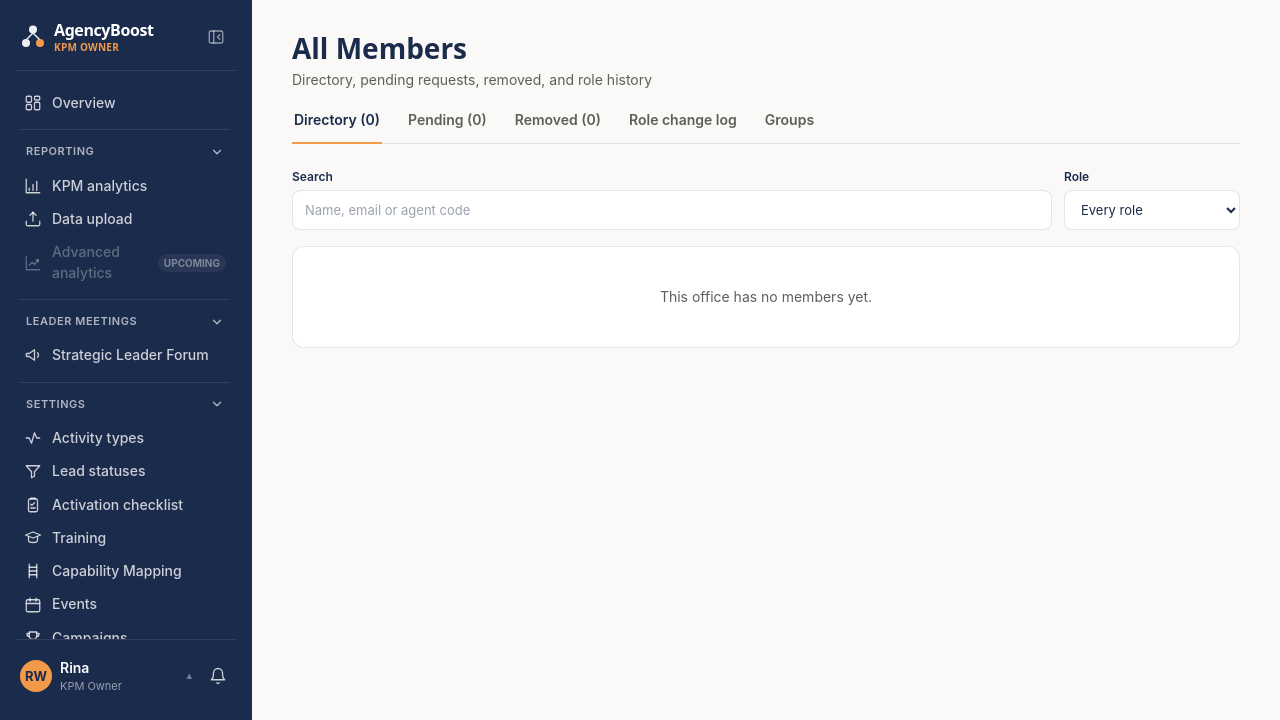
members directory (P3-T1 AC-3) › the role change log tab (P3-T6 AC-4) › reads the log, not the roster, and drops the roster filters while it is open
What coordinates should you click on to do the following:
click the button "Role change log"
I would click on:
 (683, 127)
Its box is [627,110,739,144].
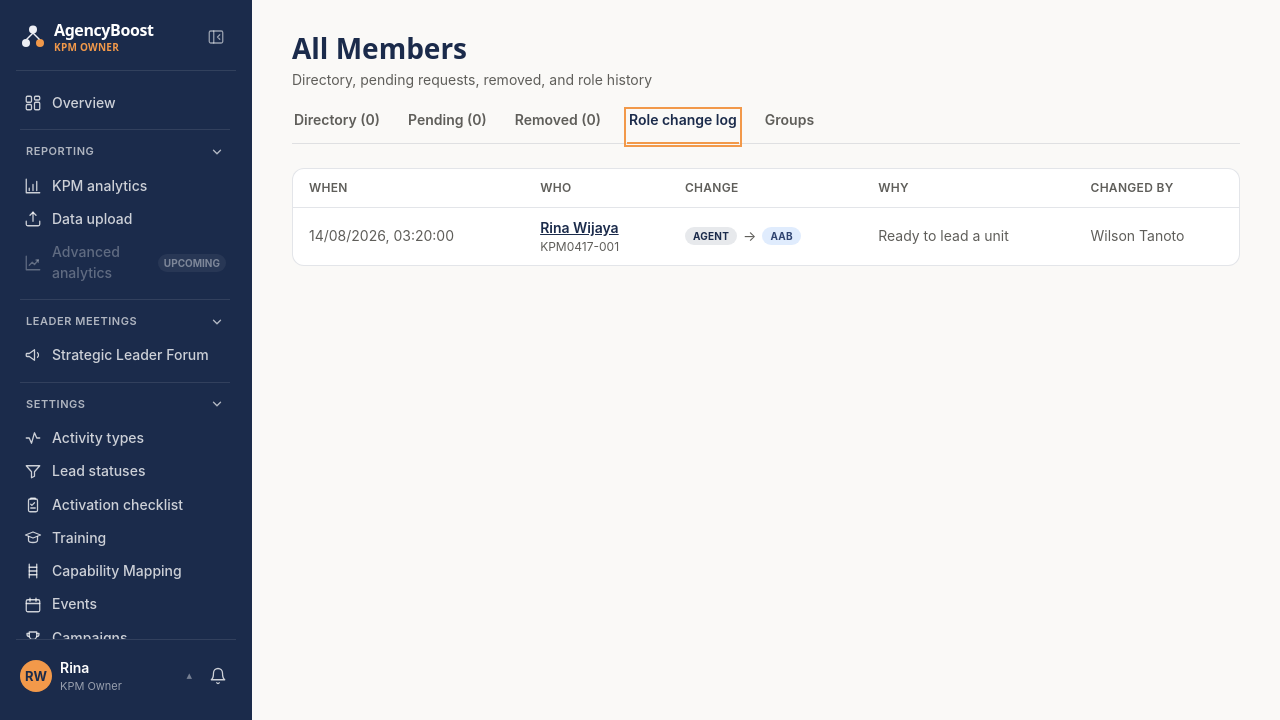
Check: the table is shown, box [293,169,1239,265]
Check: the label labelled "Search" is gone
